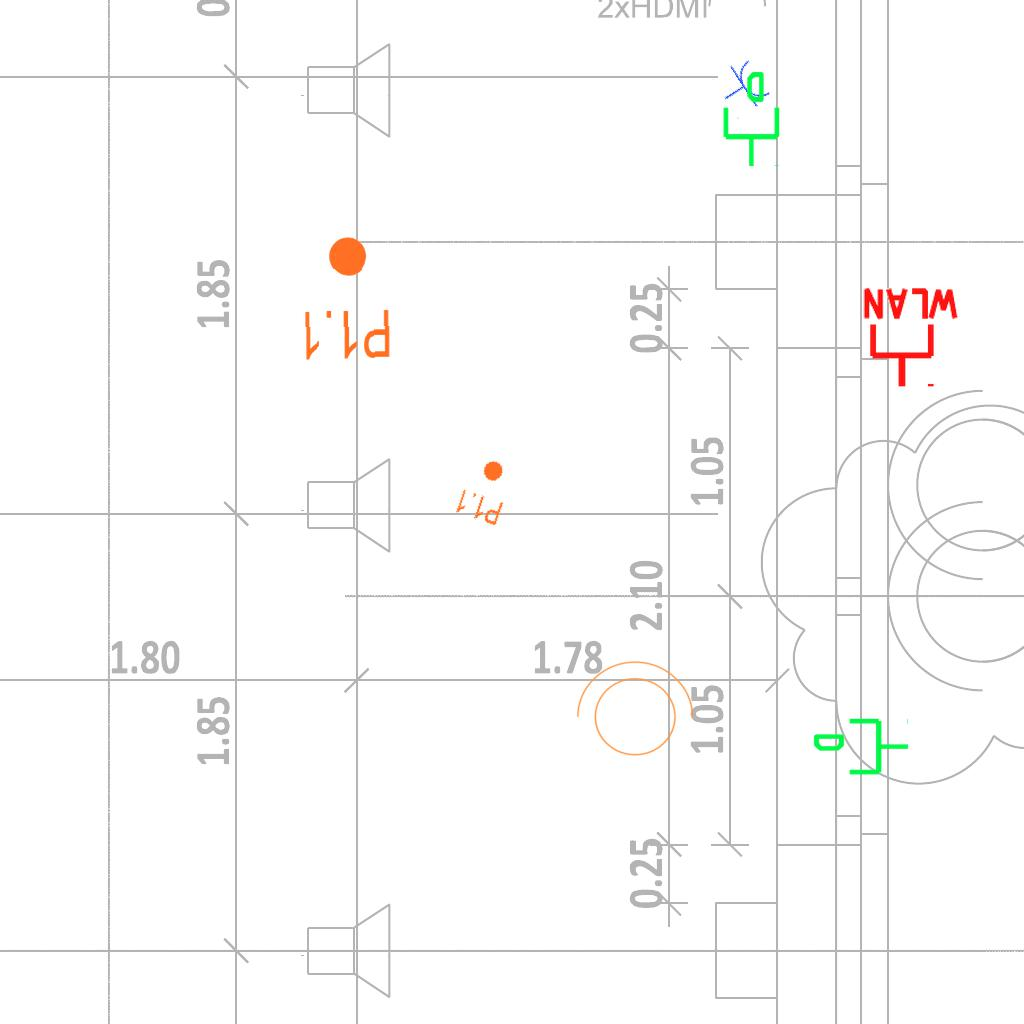Datenanschluss_einfach: (811, 714, 911, 783), (715, 69, 784, 169)
Downlight_LED_Einbauleuchten_Flur: (297, 233, 394, 363), (452, 452, 518, 528)
Scheinwerfer_fuer_Alarmbeleuchtung: (566, 656, 698, 768)
Schukosteckdose_einfach: (711, 54, 775, 121)
WLAN: (859, 286, 963, 391)
